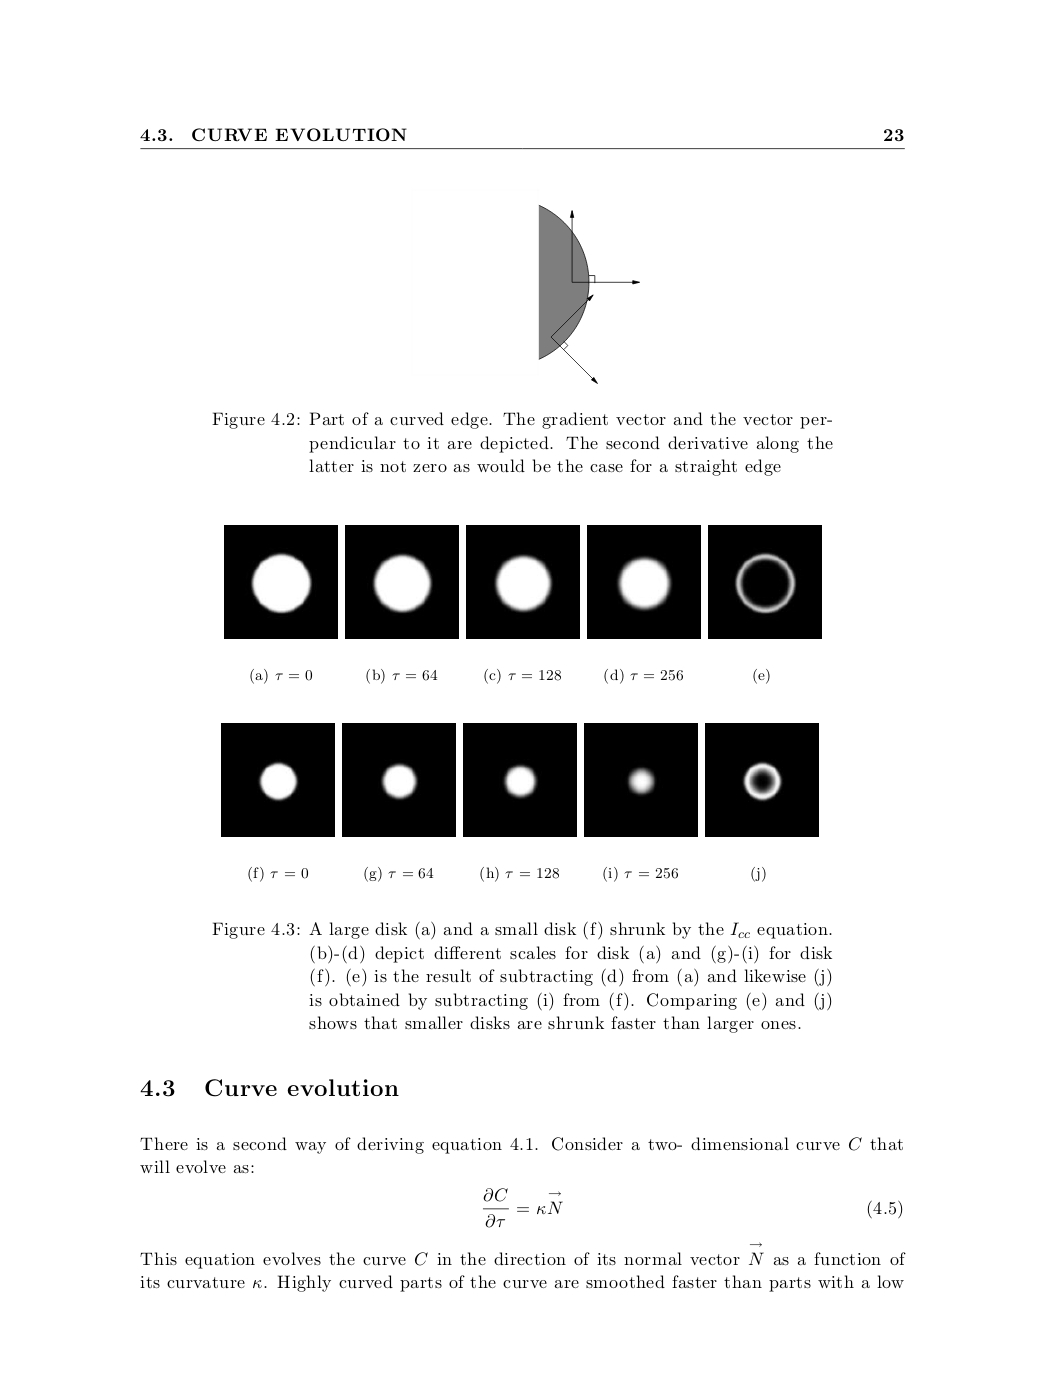figure: (538, 204, 639, 384), (466, 525, 580, 637), (708, 525, 821, 637), (221, 723, 334, 836), (463, 723, 576, 836), (224, 525, 337, 637), (345, 525, 458, 637), (587, 525, 700, 637), (342, 723, 455, 836), (584, 723, 697, 836), (705, 723, 818, 834)
formula: (483, 1187, 902, 1228)
